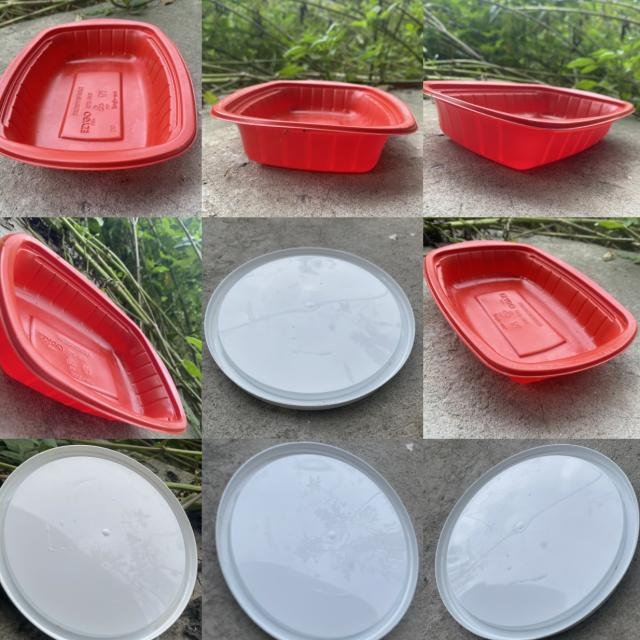plastik: (216, 442, 418, 640), (436, 445, 638, 640), (0, 445, 197, 640), (0, 233, 187, 434), (205, 248, 415, 410), (424, 241, 637, 383), (0, 19, 197, 170), (210, 80, 418, 172), (423, 80, 634, 170)
